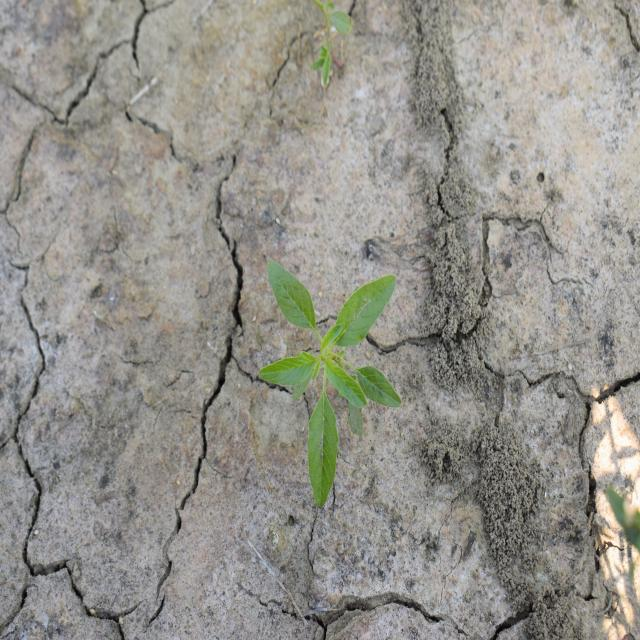Waterhemp: (258, 257, 403, 509)
